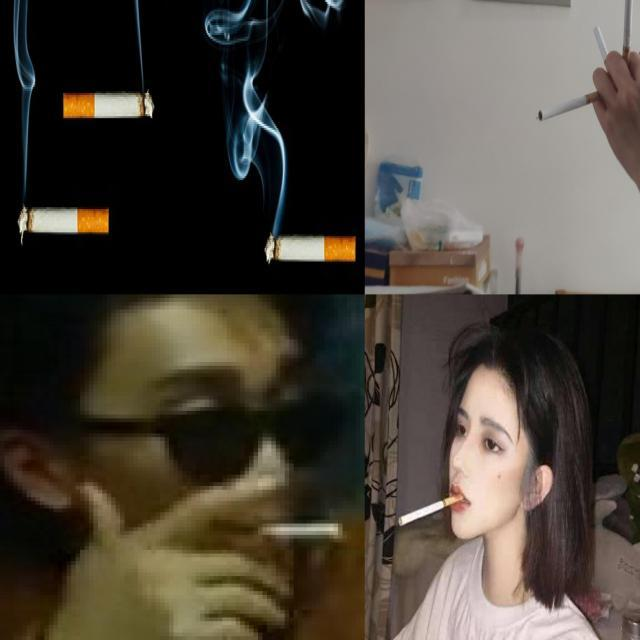smoking: (18, 202, 110, 236), (264, 232, 356, 265), (62, 92, 154, 120), (398, 495, 464, 527), (538, 90, 602, 122), (248, 521, 342, 542), (593, 25, 617, 85), (621, 0, 635, 73)
